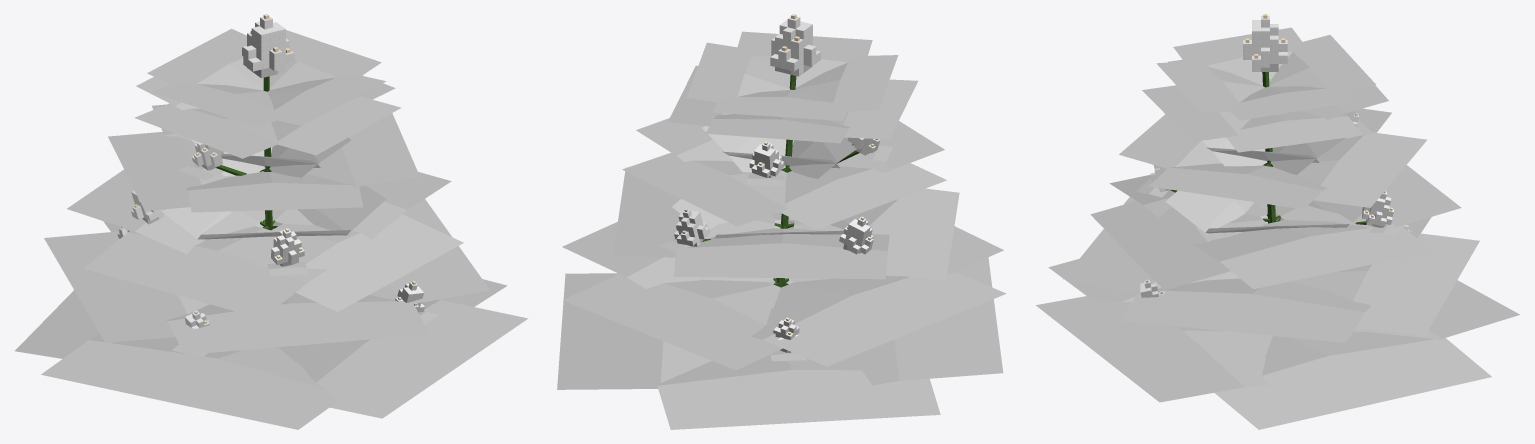
File: plant_2_2_1.obj
3 views of the same model, side by side, from view 1: azimuth 30°, elevation 25°; view 2: azimuth 150°, elevation 25°; view 3: azimuth 270°, elevation 25° (orthographic). The views are drawn at different scales.
Visible parts, largest first — view 1: model; view 2: model; view 3: model.
Part boxes in pixels (left/top/right/bottom): model: left=14, top=14, right=528, bottom=429; model: left=557, top=14, right=1006, bottom=429; model: left=1036, top=14, right=1519, bottom=429.
Size of the model in its own units: 1.16 by 0.9008 by 1.13.
